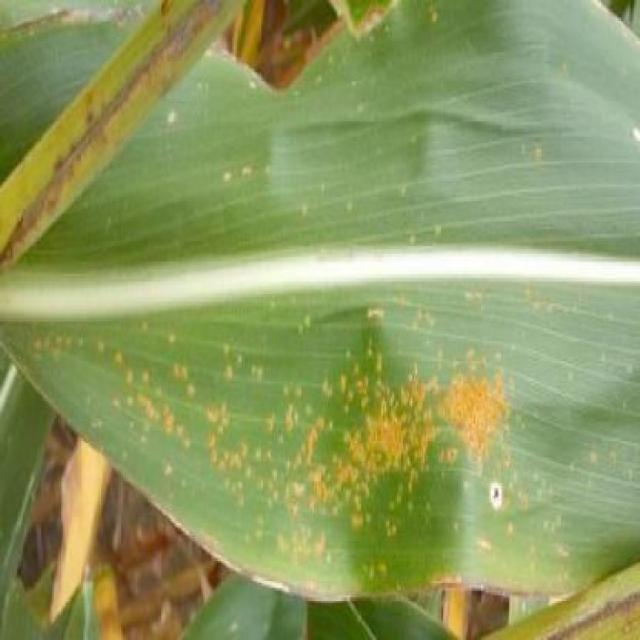Corn_Rust: (35, 200, 640, 622)
